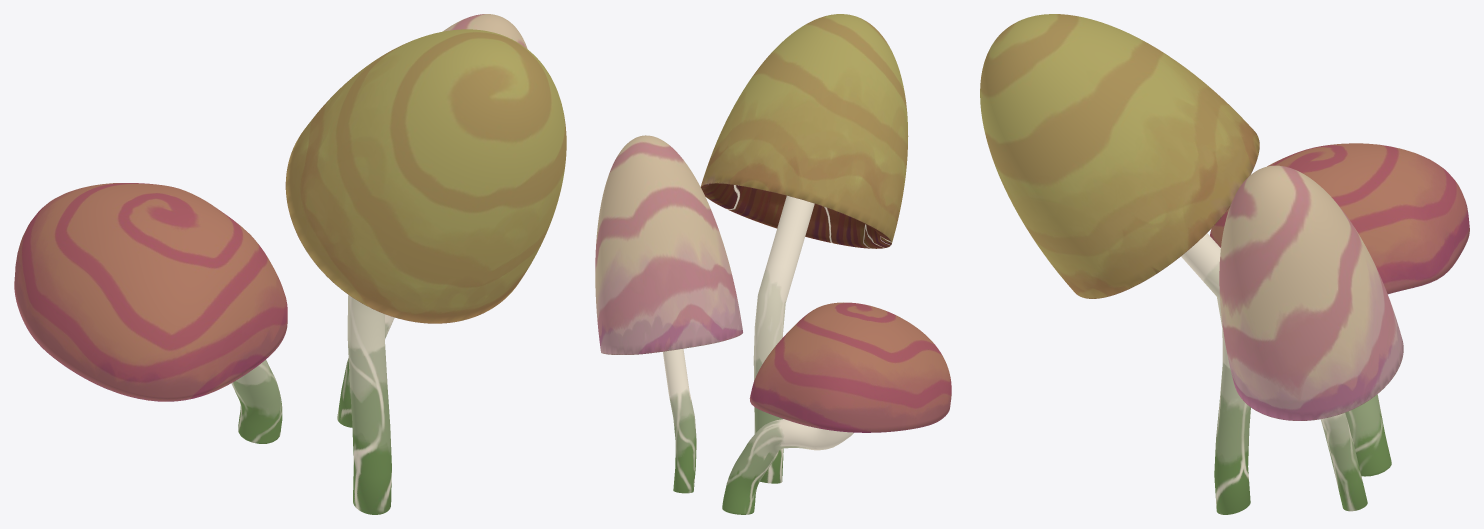
Rendered from mushies2.gltf.
3 views of the same model, side by side, from view 1: azimuth 30°, elevation 25°; view 2: azimuth 150°, elevation 25°; view 3: azimuth 270°, elevation 25° (orthographic). The views are drawn at different scales.
Visible parts, largest first — view 1: defaultMaterial; view 2: defaultMaterial; view 3: defaultMaterial.
Part boxes in pixels (x1,y1,x2,y2): defaultMaterial: [14, 14, 566, 514]; defaultMaterial: [595, 14, 951, 514]; defaultMaterial: [980, 14, 1469, 514].
Bounding box in the file's own units: 2.78 × 3.12 × 2.81.
1 material, 1 textured.
